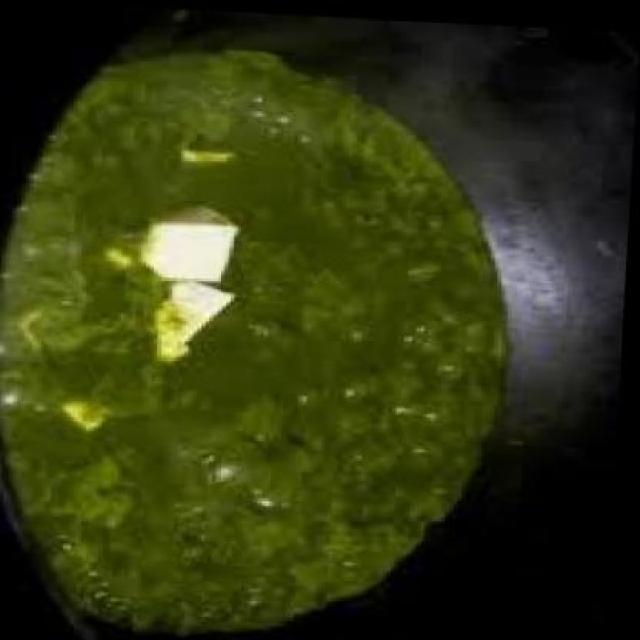palakpaneer: (0, 38, 525, 640)
